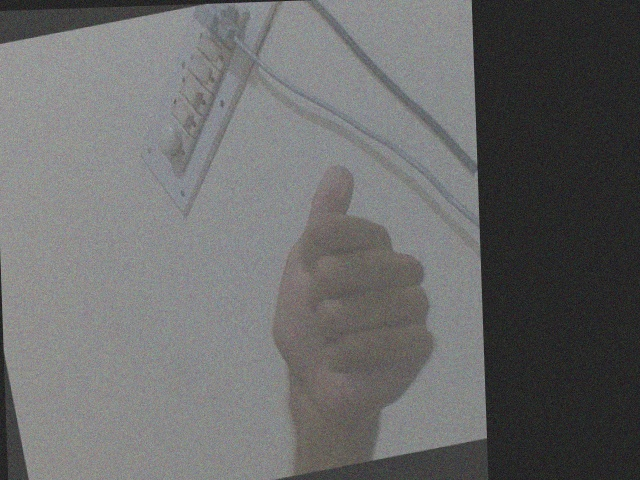hand: (265, 161, 441, 439)
